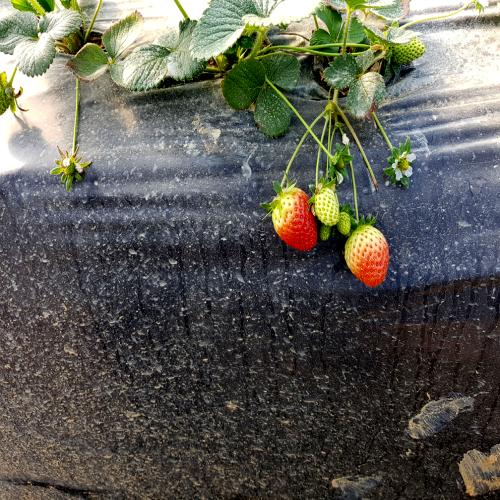partially-ripe: (272, 180, 318, 257), (348, 211, 390, 286)
